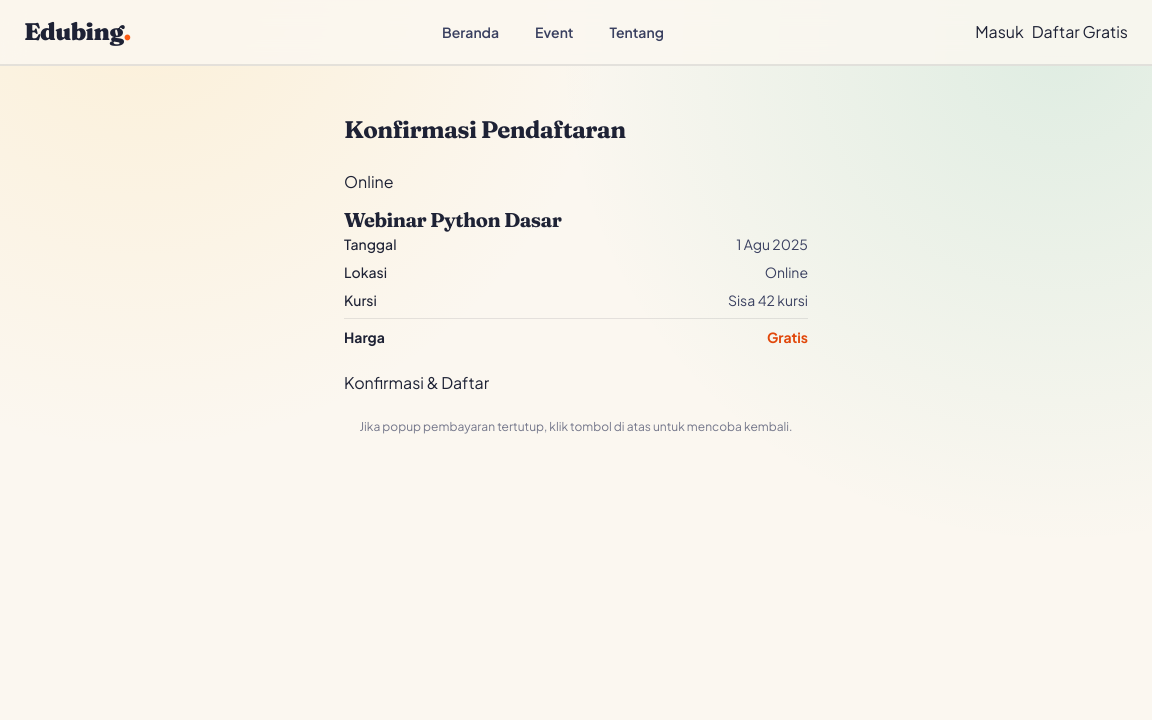
it: Checkout — event gratis › klik CTA → registerForEvent dipanggil → panel sukses muncul
Click the button "Konfirmasi & Daftar". click: coordinates (417, 383)
box: top-left (344, 371), bottom-right (489, 395)
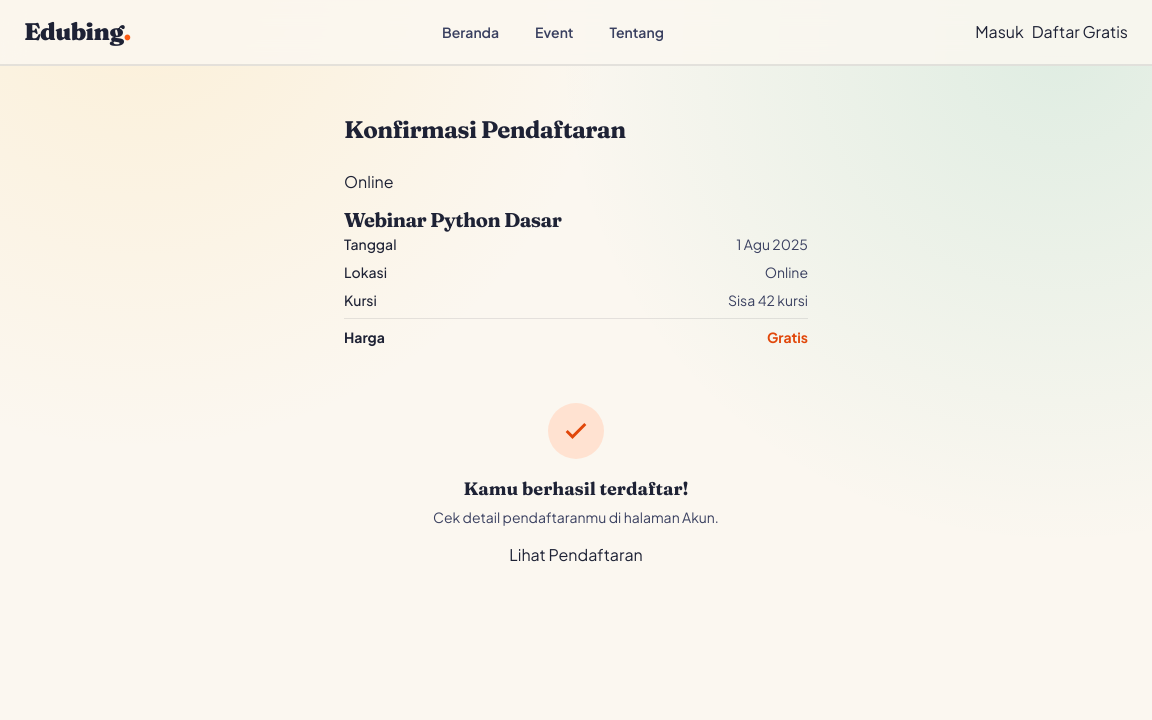
Check: the text "Kamu berhasil terdaftar!" is shown, box top-left (464, 477), bottom-right (689, 500)
